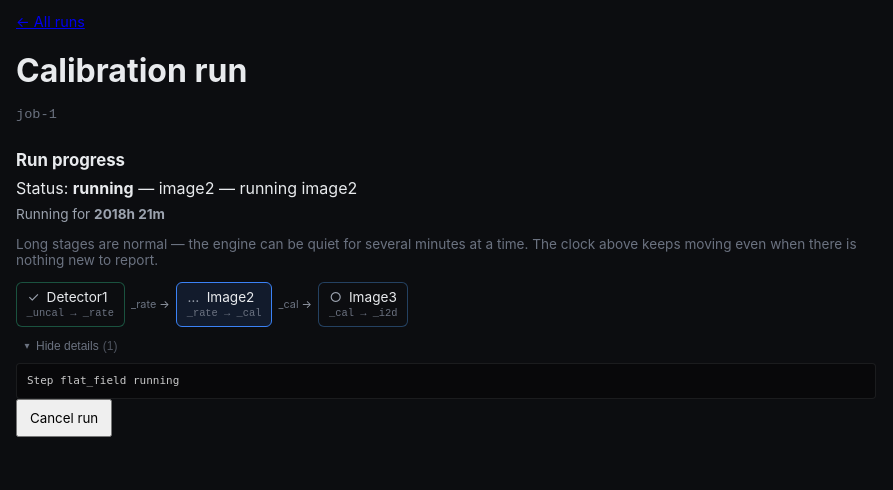
Test: RunDetail › cancelling › says so when the cancel request fails
Click the button "Cancel run". click: click(64, 418)
box: [16,399,112,437]
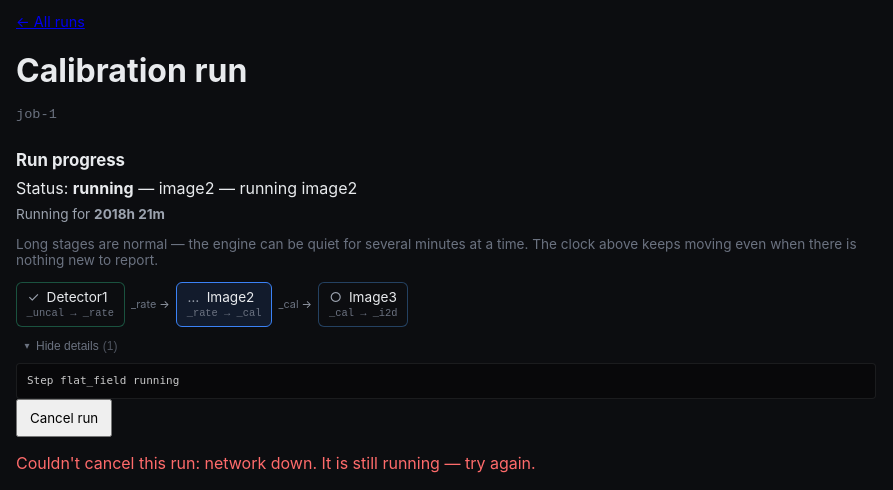
Check: the message "Couldn't cancel this run: network down. It is still running — try again." is shown, box [16,453,536,473]
